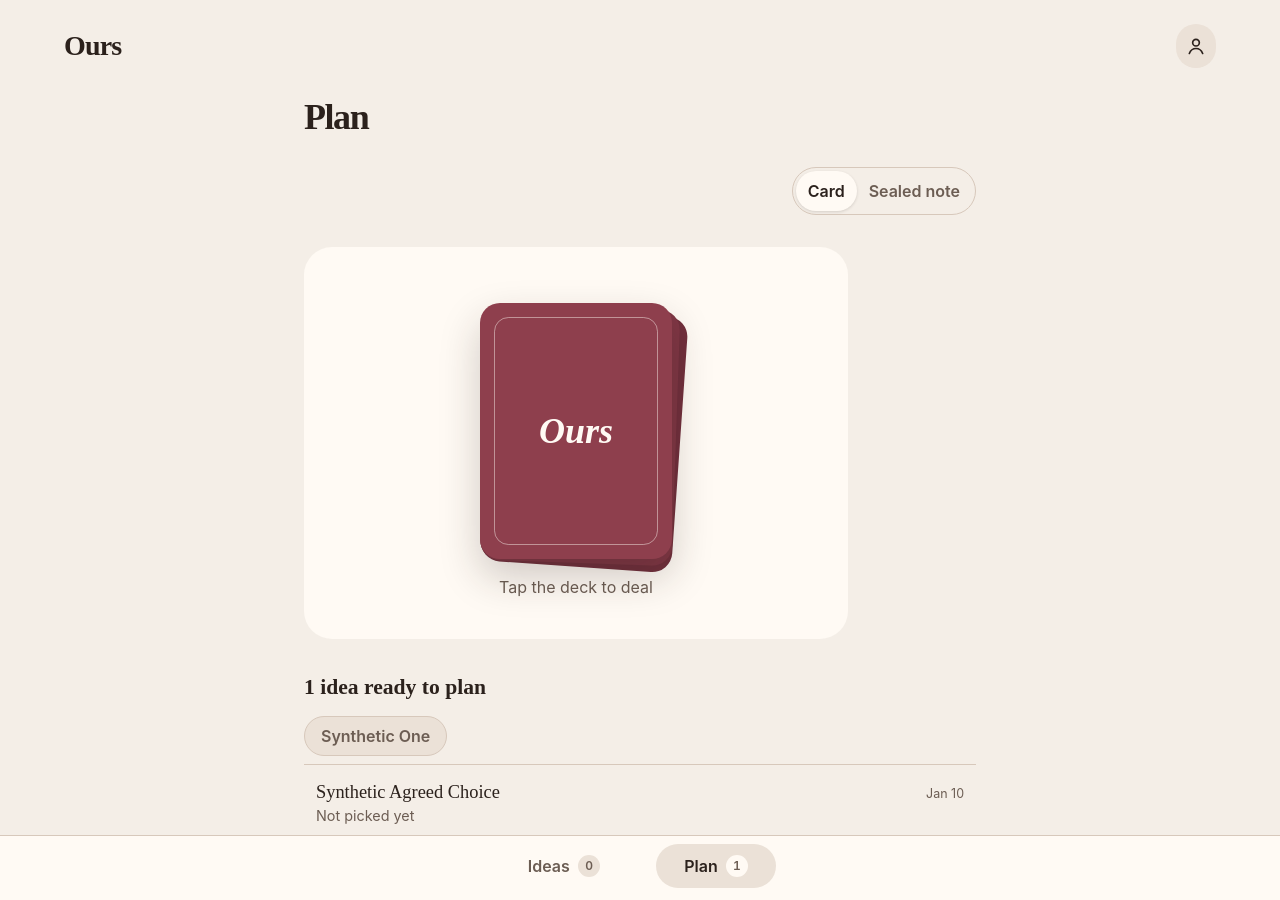
Test case: Plan reveal › clears a stale result, says why, and moves focus back to the deck
Click the button with aria-label "Deal a card" at (576,431), box [480,303,672,559]
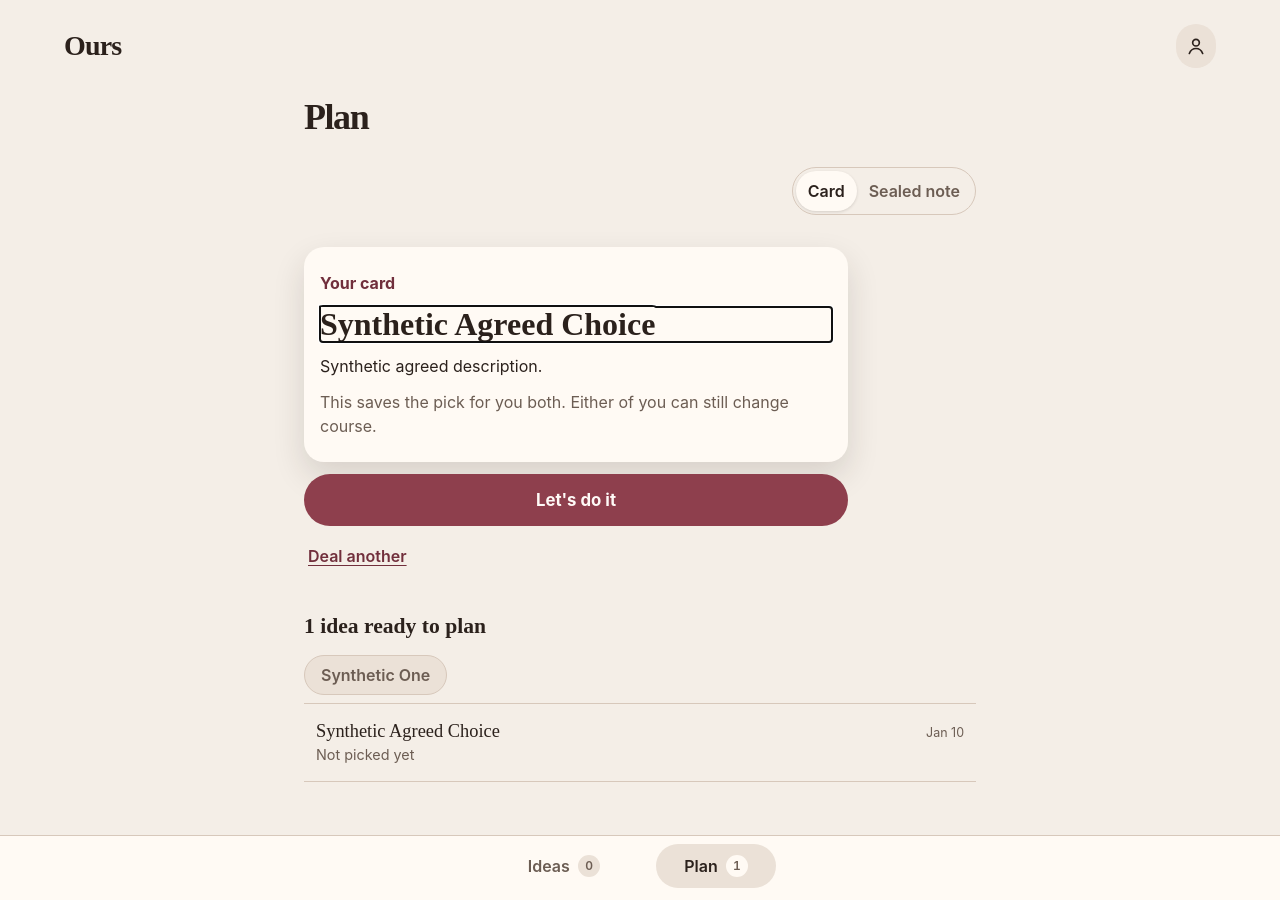
Click the button "Let's do it" at (576,500), box [304,474,848,526]
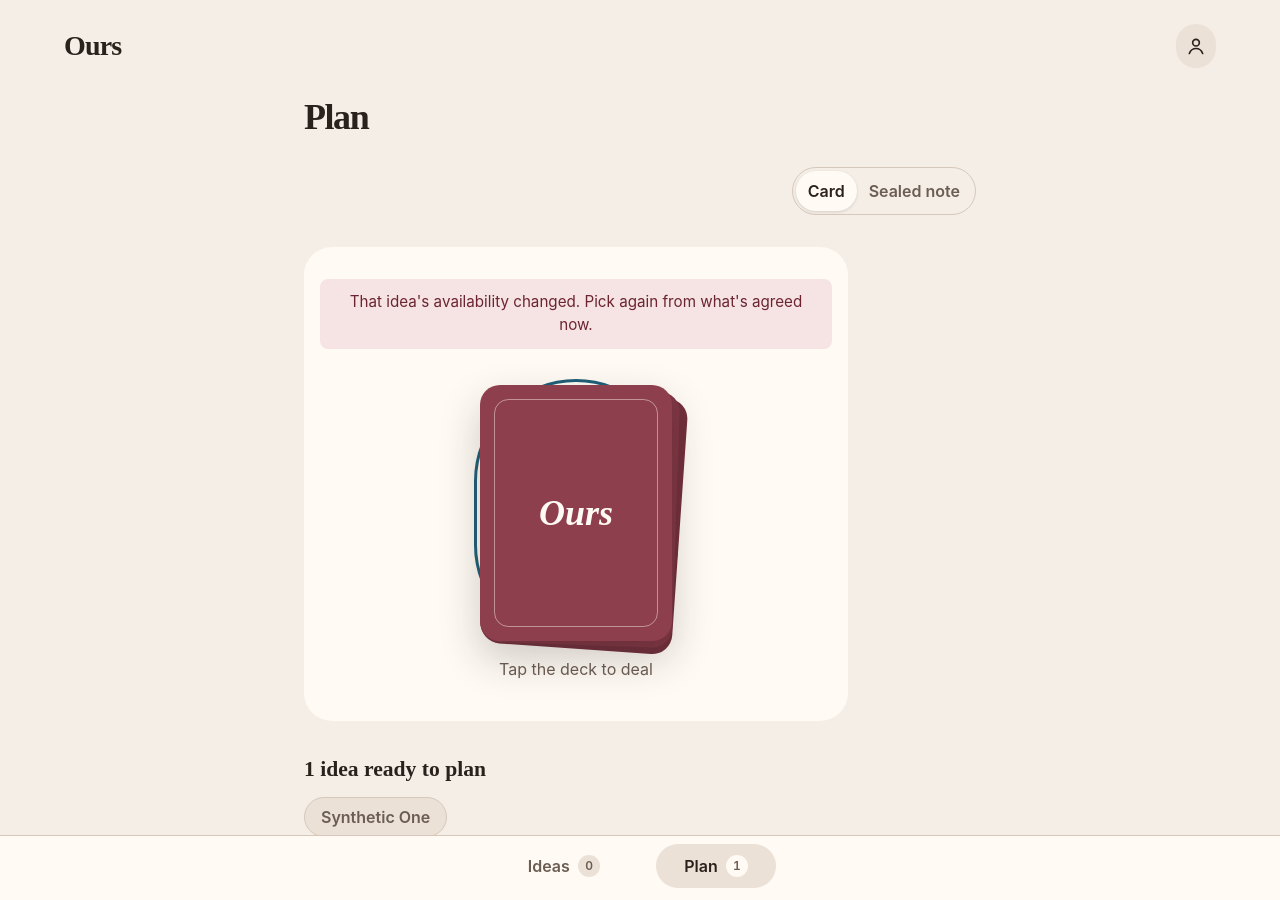
Now the message shows "availability changed", box [350,292,802,334]
